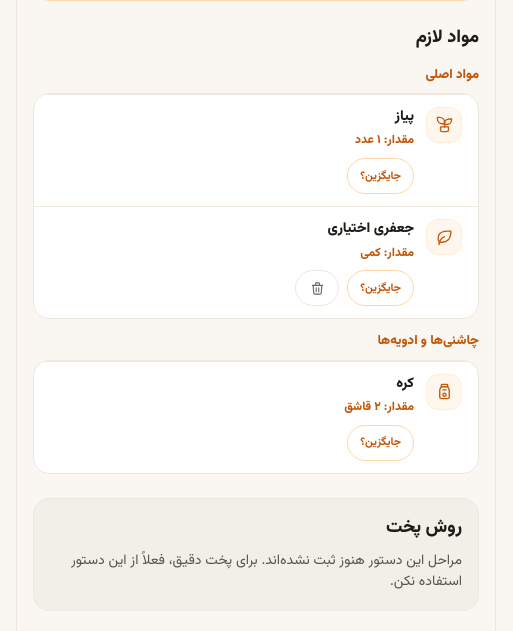
Test: Recipe Detail — apply substitution (Phase 2) › removing an ingredient marks it «حذف شد» and offers an undo
(page scrolled)
Click the button named "حذف جعفری اختیاری": (317, 288) x1=295 y1=270 x2=339 y2=306
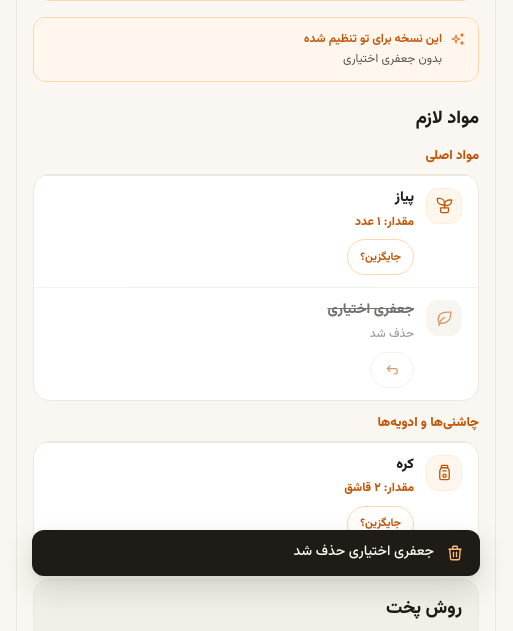
Expected: the text "حذف شد" is shown, x1=370 y1=325 x2=414 y2=343
Expected: the button named "برگرداندن جعفری اختیاری" is shown, x1=370 y1=352 x2=414 y2=388
